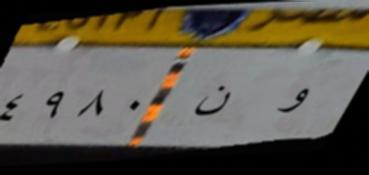0: (126, 94, 144, 118)
4: (0, 86, 25, 124)
8: (74, 87, 108, 122)
9: (39, 87, 68, 120)
noon: (194, 79, 230, 124)
waw: (269, 81, 312, 118)
